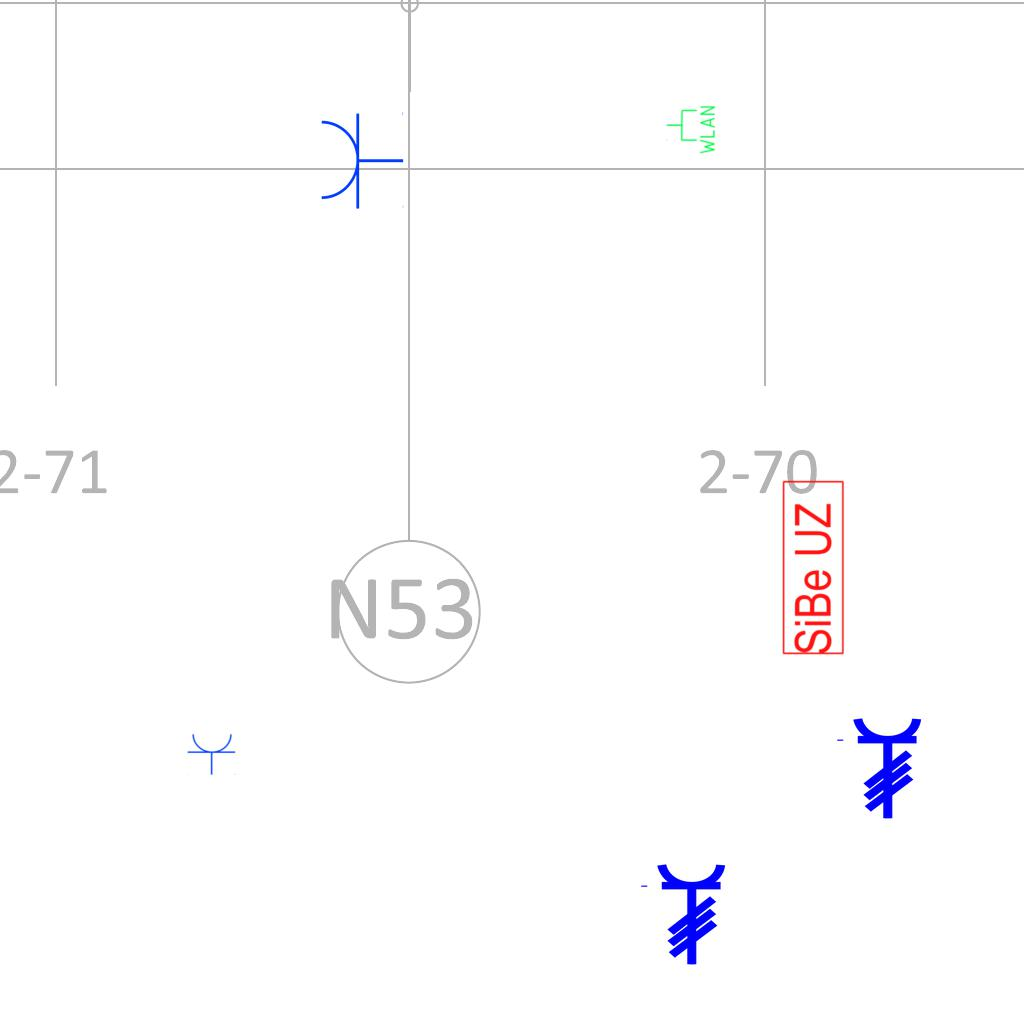CEE_Drehstrom_Steckdose_16_32_A: (834, 716, 924, 820), (638, 862, 728, 966)
Schukosteckdose_einfach: (317, 110, 404, 210), (187, 732, 237, 775)
WLAN: (665, 104, 717, 156)
Zentrale_Sicherheitsbeleuchtung: (781, 478, 846, 656)
